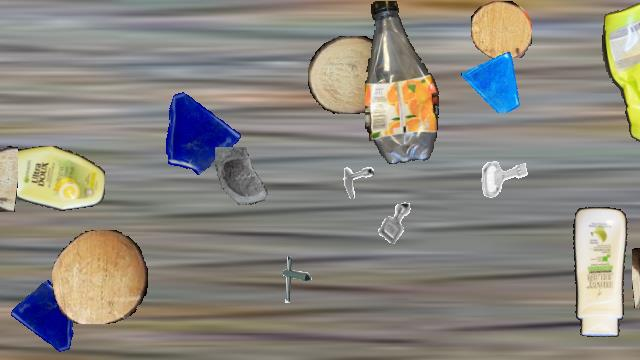glass: (153, 85, 243, 175), (9, 280, 87, 358), (209, 147, 277, 215), (461, 50, 523, 112)
metal: (473, 148, 533, 208), (367, 195, 423, 251), (268, 253, 320, 305), (332, 156, 374, 198)
plastic: (365, 1, 441, 163), (566, 207, 630, 337), (0, 146, 104, 212), (601, 1, 640, 163)
wood: (52, 230, 148, 324), (308, 36, 390, 114), (471, 1, 531, 59), (0, 145, 17, 211), (632, 248, 640, 308)
